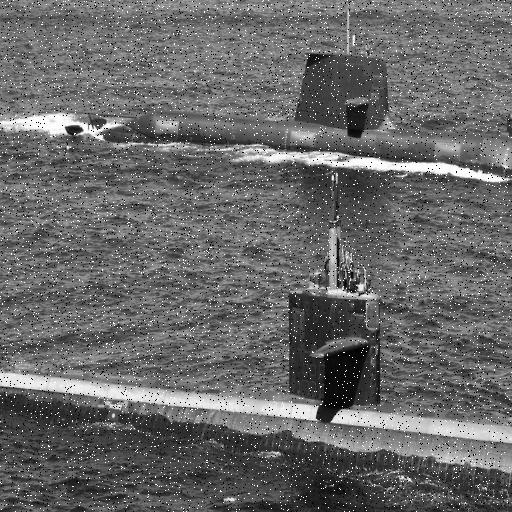submarine: (1, 161, 512, 512), (57, 1, 512, 199)
